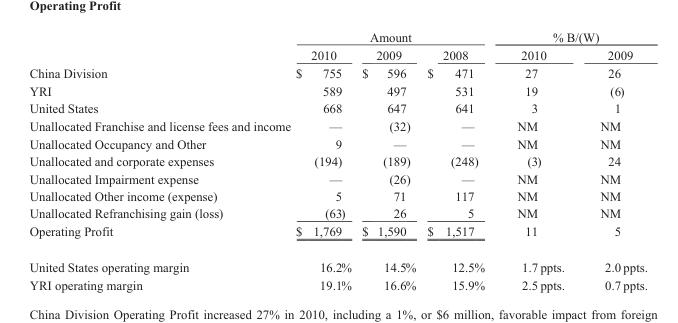table: (28, 29, 646, 291)
table column: (28, 29, 292, 291), (500, 29, 581, 291), (420, 29, 500, 291), (581, 29, 646, 291), (292, 29, 356, 291), (356, 29, 420, 291)
table column header: (28, 29, 646, 63)
table row: (28, 221, 646, 248), (28, 248, 646, 275), (28, 45, 646, 63), (28, 63, 646, 81), (28, 81, 646, 99), (28, 116, 646, 134), (28, 134, 646, 152), (28, 203, 646, 221), (28, 99, 646, 116), (28, 152, 646, 169), (28, 169, 646, 186), (28, 186, 646, 203), (28, 29, 646, 45), (28, 275, 646, 291)
table spanning cell: (292, 29, 500, 45), (500, 29, 646, 45)
